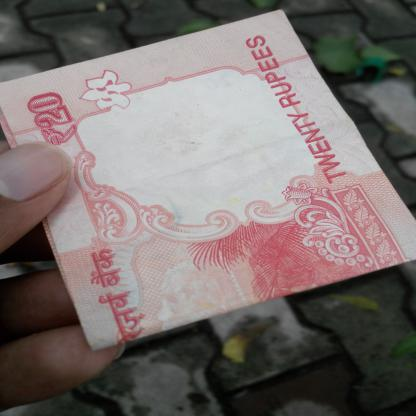Old20Back: (15, 15, 399, 337)
